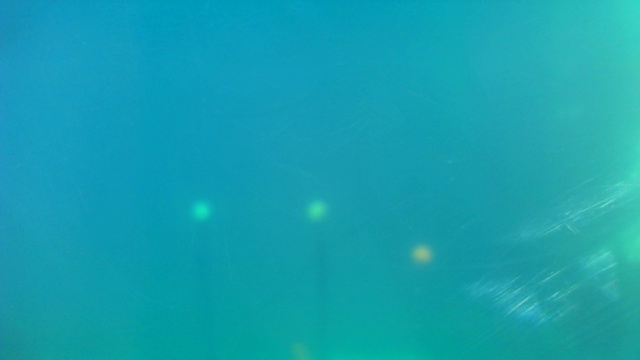buoy_red: (409, 245, 430, 264)
